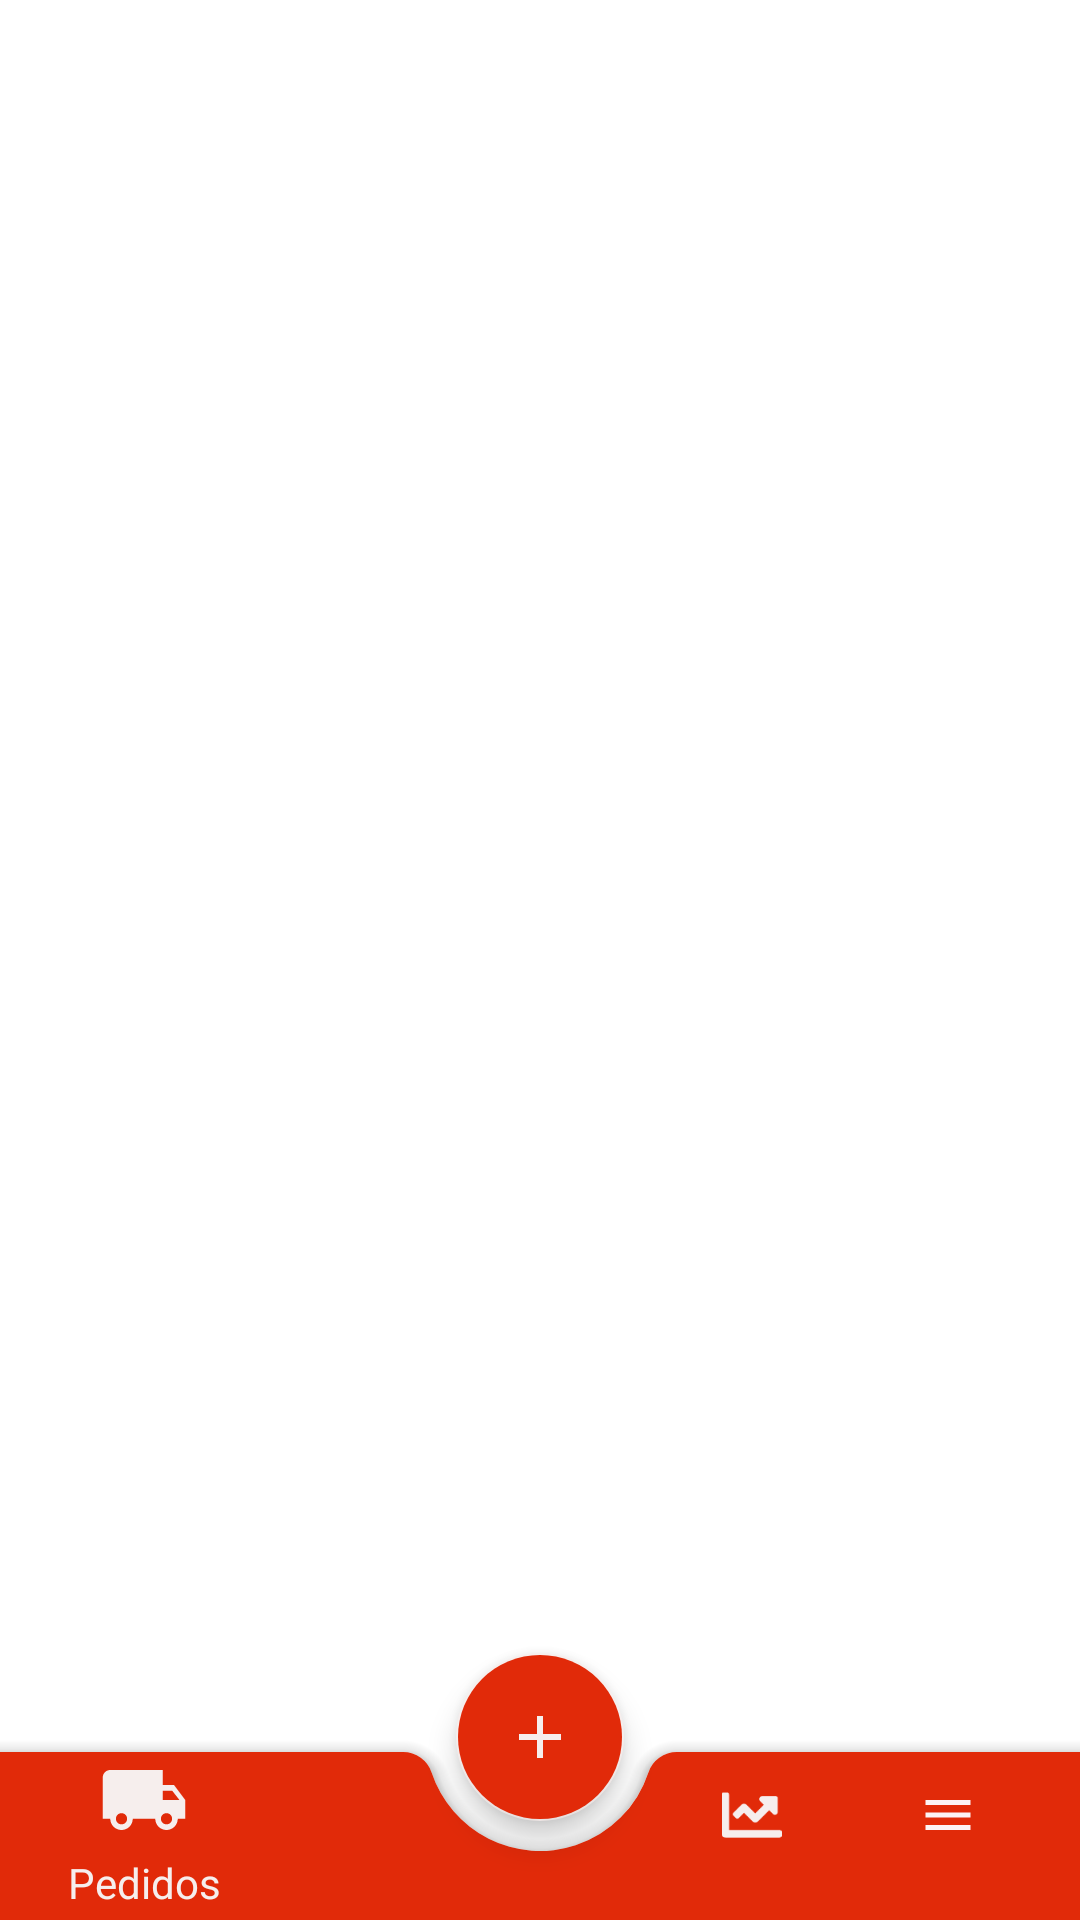

Named icons in this screenshot (1080×1920) and their centers, [x,y]:
add: [540,1752]
camion: [144,1800]
garficos lineal: [752,1815]
menu: [948,1815]
